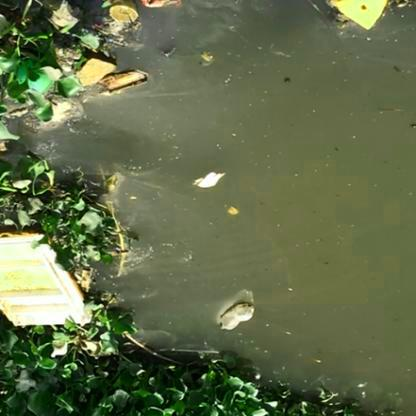Plastic: (217, 301, 254, 336)
Trash: (191, 171, 227, 190)
